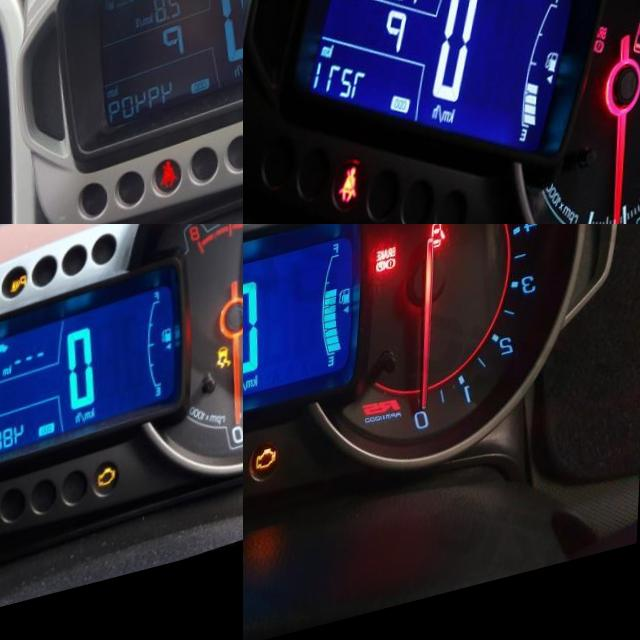Doors: (433, 240, 449, 270)
SideLamp: (457, 224, 478, 241)
